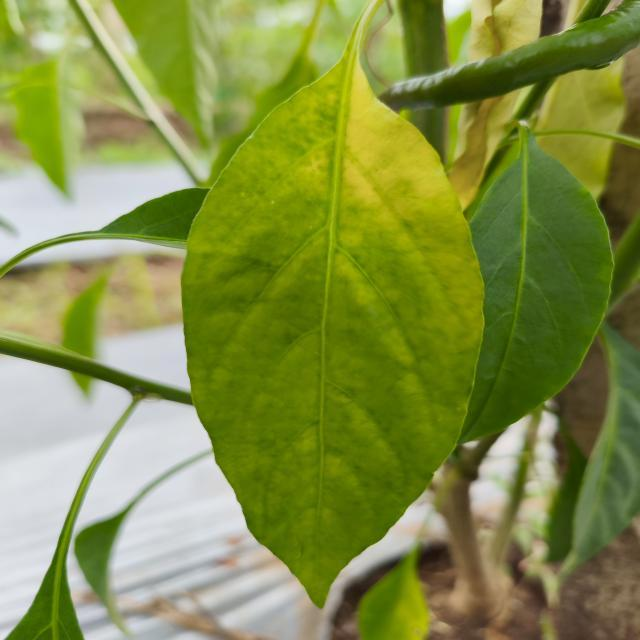Daun Cabai Sehat: (460, 139, 617, 451)
Virus Kuning: (179, 1, 487, 608)
